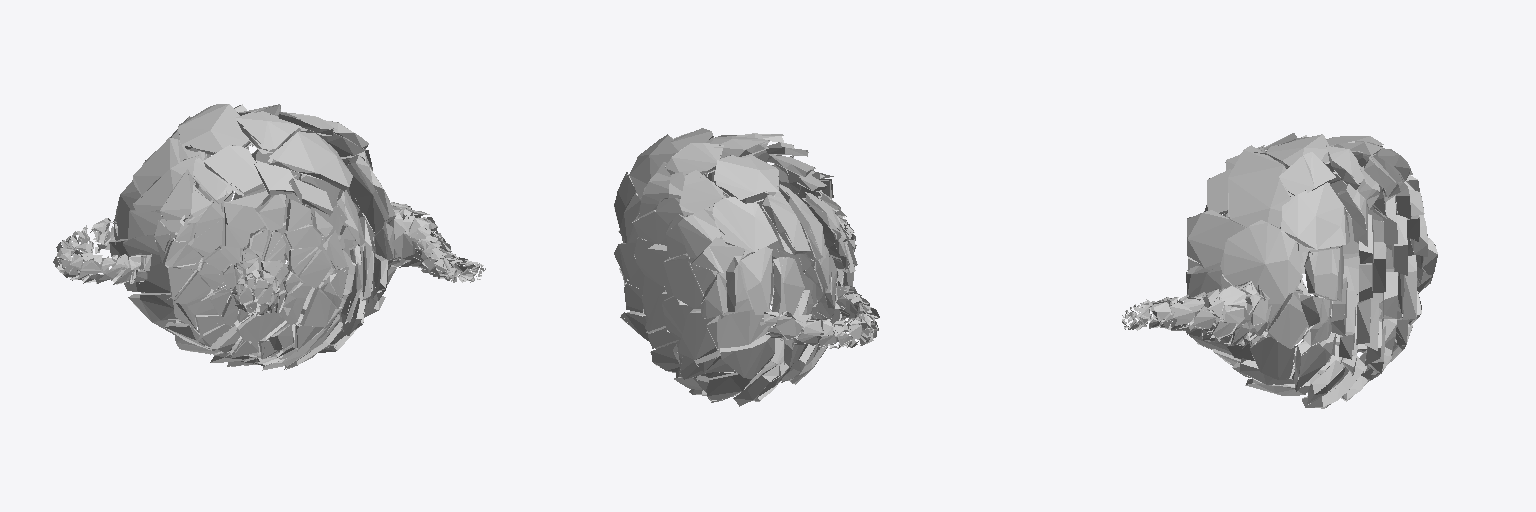
File: TeapotBody1.obj
3 views of the same model, side by side, from view 1: azimuth 30°, elevation 25°; view 2: azimuth 150°, elevation 25°; view 3: azimuth 270°, elevation 25° (orthographic).
Visible parts, largest first — view 1: TeapotBody.001_cell_TeapotBody.001_cell.100; view 2: TeapotBody.001_cell_TeapotBody.001_cell.100; view 3: TeapotBody.001_cell_TeapotBody.001_cell.100.
Boxes of the visible parts, x1=… form: TeapotBody.001_cell_TeapotBody.001_cell.100: x1=53, y1=104, x2=485, y2=370; TeapotBody.001_cell_TeapotBody.001_cell.100: x1=614, y1=128, x2=879, y2=406; TeapotBody.001_cell_TeapotBody.001_cell.100: x1=1122, y1=133, x2=1437, y2=408.
Bounding box in the file's own units: 1.32 × 1.01 × 1.18.